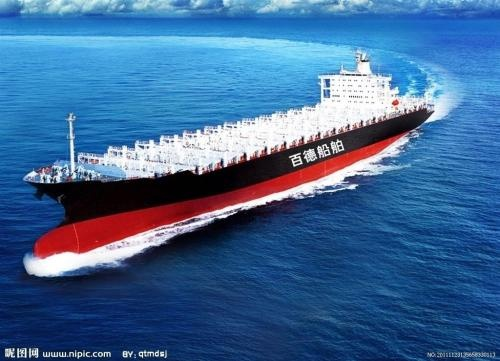Cargoship: (23, 50, 436, 267)
